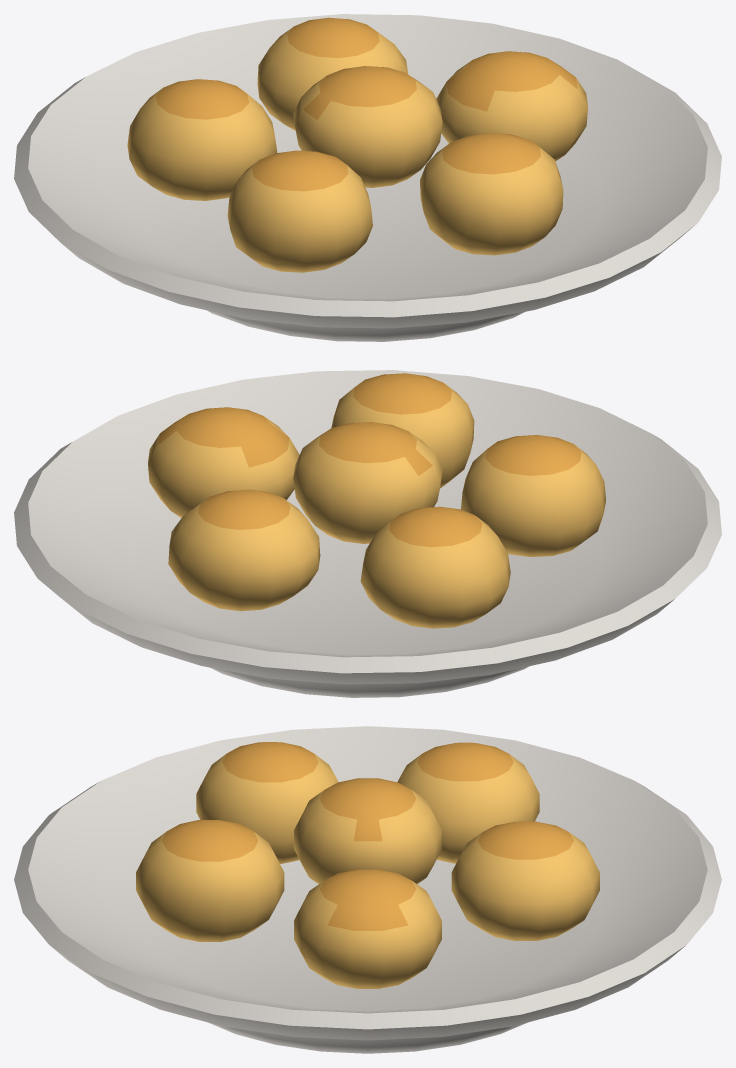
Rendered from pao-de-queijo.glb.
3 views of the same model, one above another, from view 1: azimuth 30°, elevation 25°; view 2: azimuth 150°, elevation 25°; view 3: azimuth 270°, elevation 25° (orthographic).
Parts seen in each view (by area): view 1: pao-de-queijo; view 2: pao-de-queijo; view 3: pao-de-queijo.
Part boxes in pixels (x1,y1,x2,y2): pao-de-queijo: (14,14,721,341); pao-de-queijo: (14,370,721,697); pao-de-queijo: (14,726,721,1053).
Bounding box in the file's own units: 0.32 × 0.0885 × 0.32.
